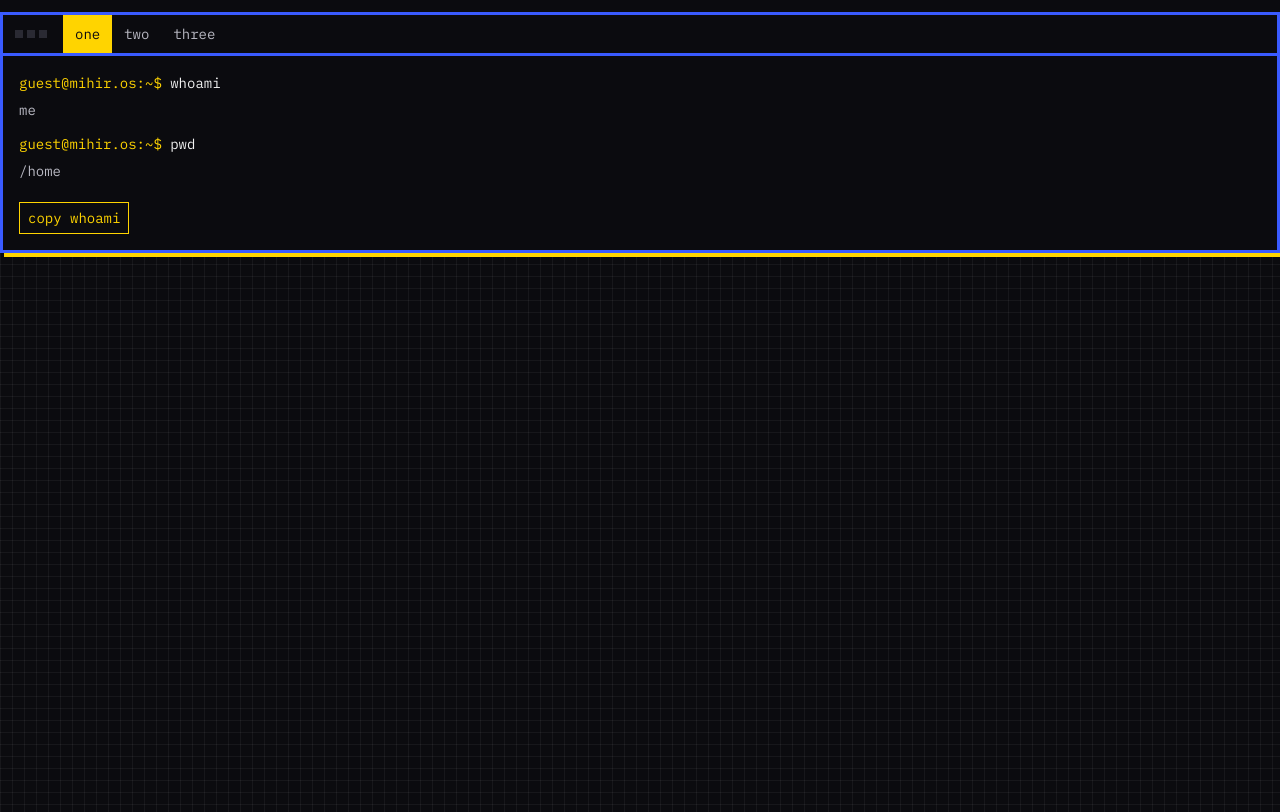
Test: TerminalPanel › shows no copy button for a tab without lines
Click the tab "three".
click(194, 34)  # box [161, 15, 227, 53]
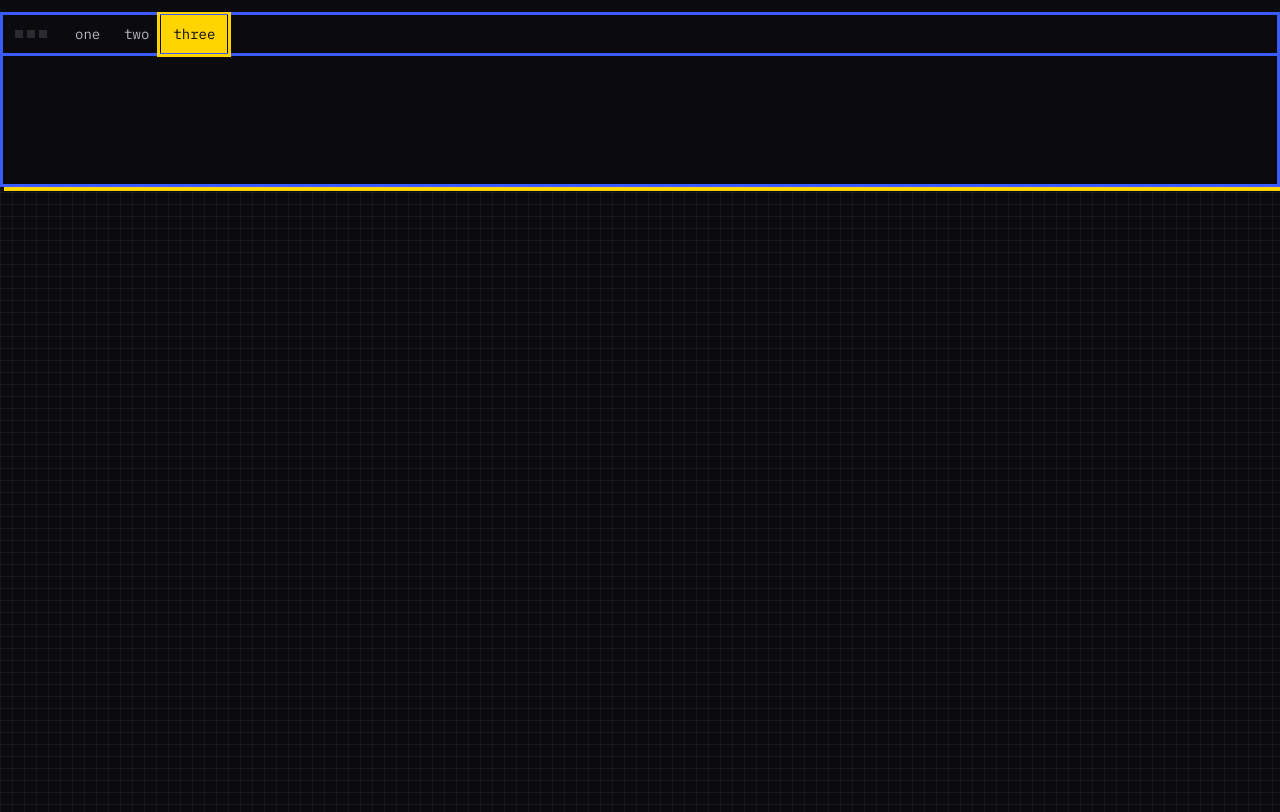
Expected: the button "copy whoami" is gone
